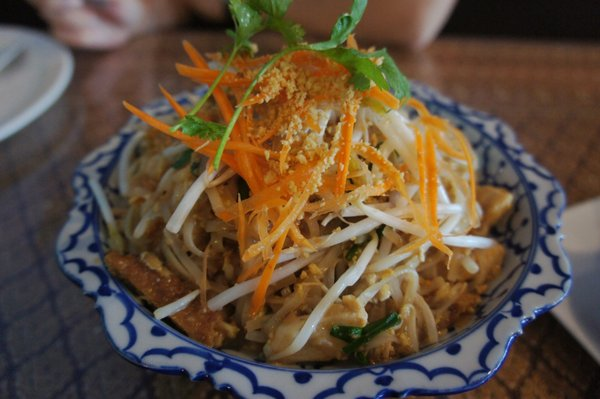sushi: (49, 35, 554, 388)
